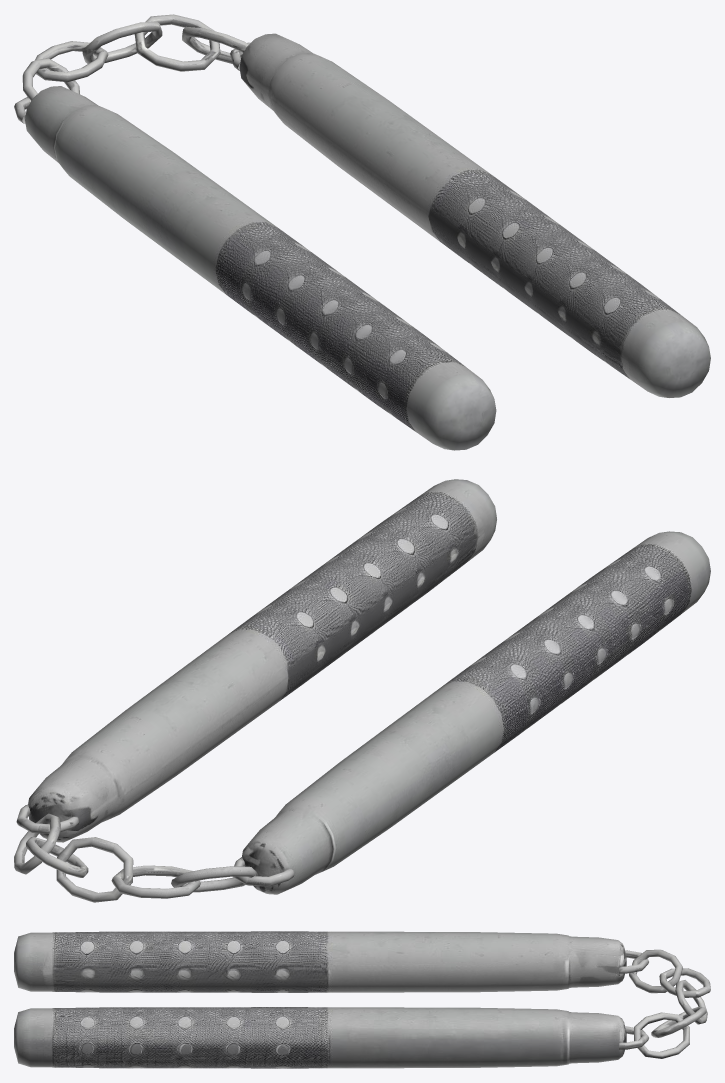
File: nunchaku.fbx
3 views of the same model, one above another, from view 1: azimuth 30°, elevation 25°; view 2: azimuth 150°, elevation 25°; view 3: azimuth 270°, elevation 25° (orthographic). The views are drawn at different scales.
Visible parts, largest first — view 1: nunchaku, nunchaku-chain; view 2: nunchaku, nunchaku-chain; view 3: nunchaku, nunchaku-chain.
Part boxes in pixels (box(x1,y1,x2,y2)): nunchaku: box(14, 33, 710, 450); nunchaku-chain: box(22, 14, 248, 100); nunchaku: box(16, 479, 710, 894); nunchaku-chain: box(14, 813, 258, 902); nunchaku: box(14, 931, 648, 1068); nunchaku-chain: box(629, 949, 710, 1058).
Bounding box in the file's own units: 97.49 × 25 × 283.
